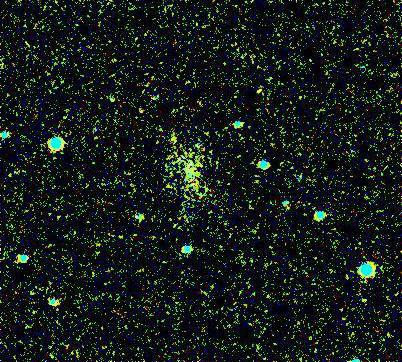star: (159, 125, 189, 155)
